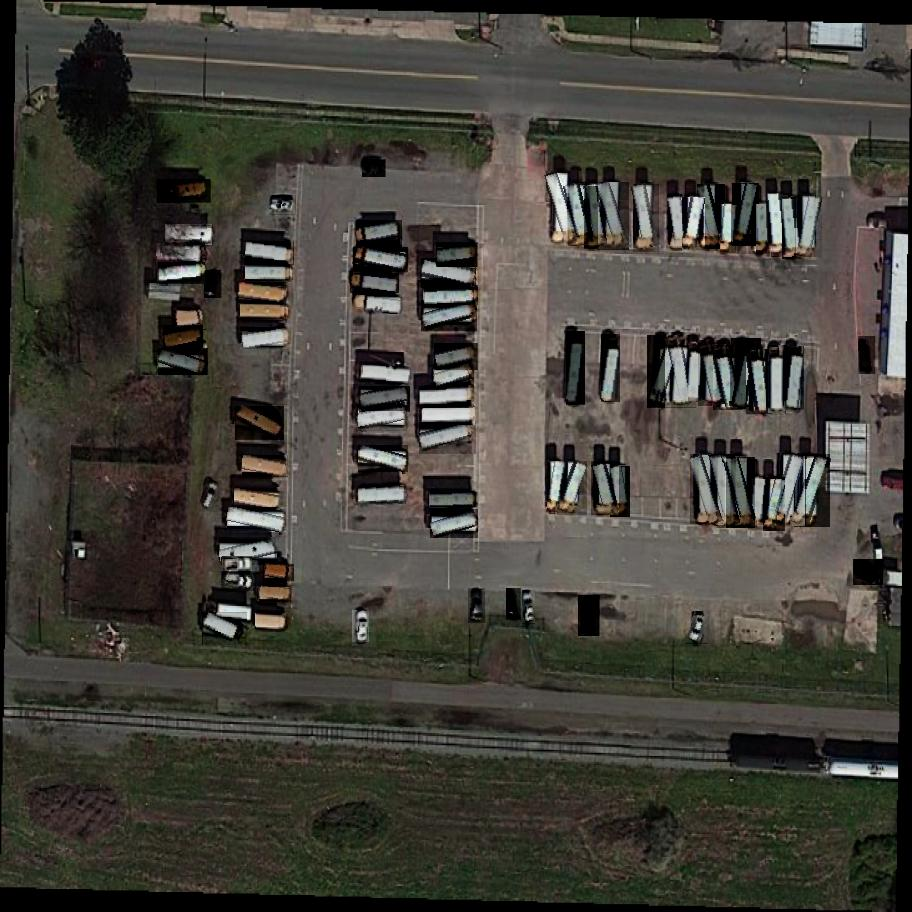large-vehicle: (772, 453, 809, 528), (795, 454, 831, 529), (546, 171, 582, 245), (648, 336, 684, 409), (690, 454, 725, 525), (665, 336, 697, 409), (598, 182, 630, 251), (711, 454, 741, 527), (731, 339, 761, 410), (726, 457, 755, 528), (714, 345, 745, 411), (419, 422, 478, 455), (698, 340, 727, 406), (421, 300, 478, 333), (746, 350, 774, 417), (698, 185, 726, 252), (633, 184, 660, 253), (557, 461, 589, 516), (220, 537, 278, 567), (732, 183, 759, 247), (235, 406, 284, 441), (226, 507, 287, 535), (421, 258, 477, 288), (569, 183, 595, 247), (796, 195, 822, 259), (584, 185, 609, 250), (590, 462, 619, 516), (203, 613, 248, 646), (358, 445, 409, 474), (430, 509, 479, 539), (158, 348, 209, 376), (566, 331, 585, 405), (353, 248, 409, 273), (683, 197, 708, 253), (359, 387, 411, 413), (667, 194, 690, 252), (356, 406, 409, 431), (767, 193, 788, 256), (419, 385, 474, 409), (157, 179, 212, 203), (356, 221, 403, 249), (601, 333, 620, 402), (783, 197, 804, 259), (435, 343, 478, 373), (233, 487, 284, 512), (240, 325, 291, 350), (762, 477, 785, 531), (161, 325, 205, 353), (786, 347, 805, 410), (244, 242, 295, 265), (768, 346, 785, 413), (157, 263, 206, 286), (423, 285, 479, 305), (547, 461, 568, 514), (437, 244, 481, 269), (350, 271, 400, 293), (237, 282, 287, 304), (610, 466, 631, 518), (243, 455, 290, 478), (164, 224, 213, 246), (433, 365, 474, 391), (352, 294, 402, 315), (421, 407, 476, 426), (749, 477, 768, 531), (360, 365, 411, 385), (156, 243, 205, 263), (689, 341, 705, 401), (720, 204, 737, 255), (358, 486, 406, 504), (246, 263, 290, 281), (172, 310, 206, 330), (431, 492, 476, 507), (241, 304, 285, 319), (756, 204, 767, 253), (263, 565, 294, 582), (256, 613, 287, 629), (259, 587, 292, 602)
small-vehicle: (578, 595, 600, 637), (685, 612, 711, 647), (853, 560, 885, 586), (198, 480, 222, 512), (222, 569, 255, 592), (859, 336, 877, 375), (468, 588, 487, 624), (222, 556, 252, 575), (352, 610, 369, 643), (269, 196, 297, 216), (205, 270, 223, 298), (522, 590, 536, 624), (506, 589, 521, 620), (362, 160, 385, 177)
